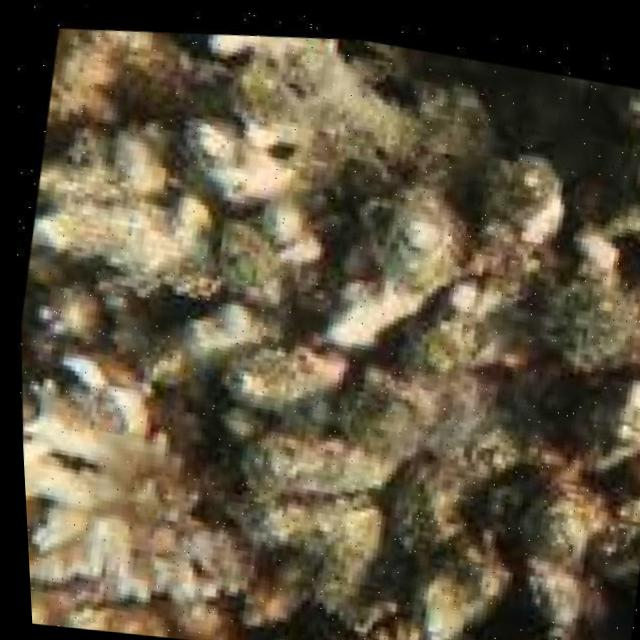Bleached Coral: (26, 56, 310, 303), (14, 347, 226, 623)
